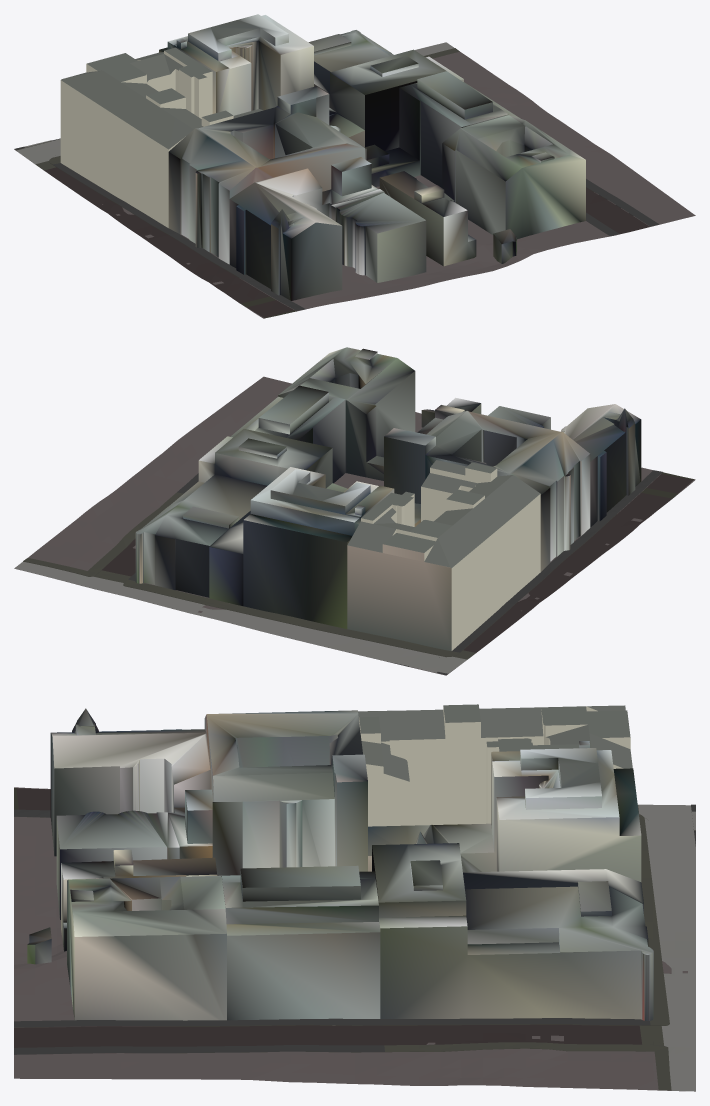
The picture shows the model from 3 angles, top to bottom: view 1: azimuth 30°, elevation 25°; view 2: azimuth 150°, elevation 25°; view 3: azimuth 270°, elevation 25°; orthographic projection. The views are drawn at different scales.
Visible parts, largest first — view 1: c_m02_p02; view 2: c_m02_p02; view 3: c_m02_p02.
Boxes of the visible parts, x1,y1,x2,y2 form: c_m02_p02: (14,14,695,318); c_m02_p02: (14,347,695,675); c_m02_p02: (14,704,695,1091).
Bounding box in the file's own units: 128 × 33.08 × 128.
